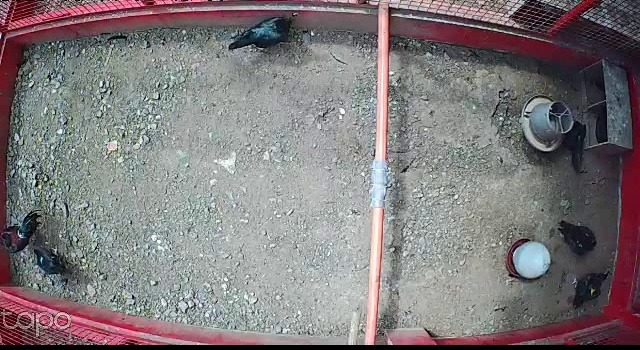Chicken: (226, 11, 301, 52), (566, 270, 612, 312), (554, 218, 599, 256), (31, 245, 76, 277)
Rooster: (0, 208, 47, 258)
Saddle_Color_Yellow: (588, 287, 596, 295)
